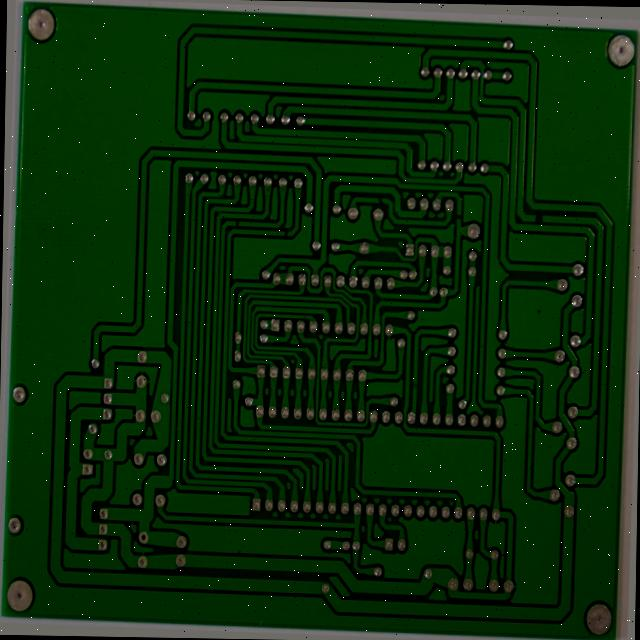open_circuit: (533, 204, 546, 216), (373, 189, 383, 202), (279, 226, 288, 236), (230, 216, 238, 227), (454, 205, 462, 216)
